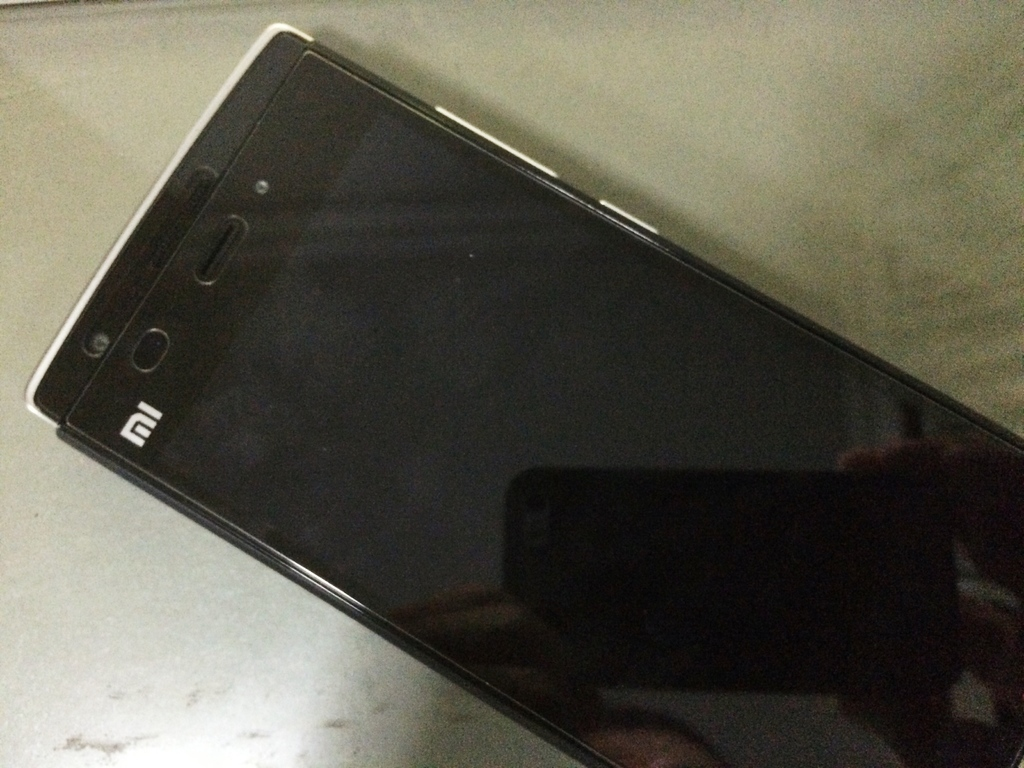Mobile-phone: (27, 22, 1024, 768)
